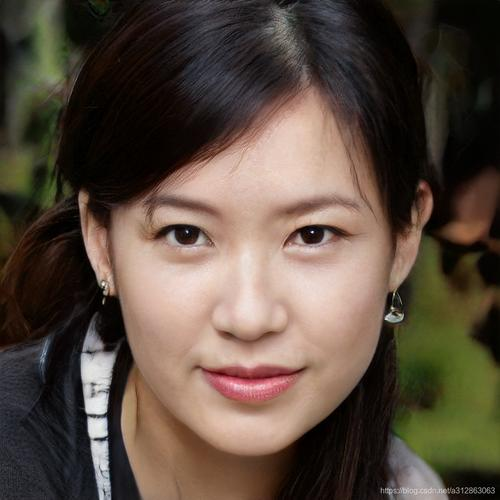no_mask: (137, 95, 401, 445)
